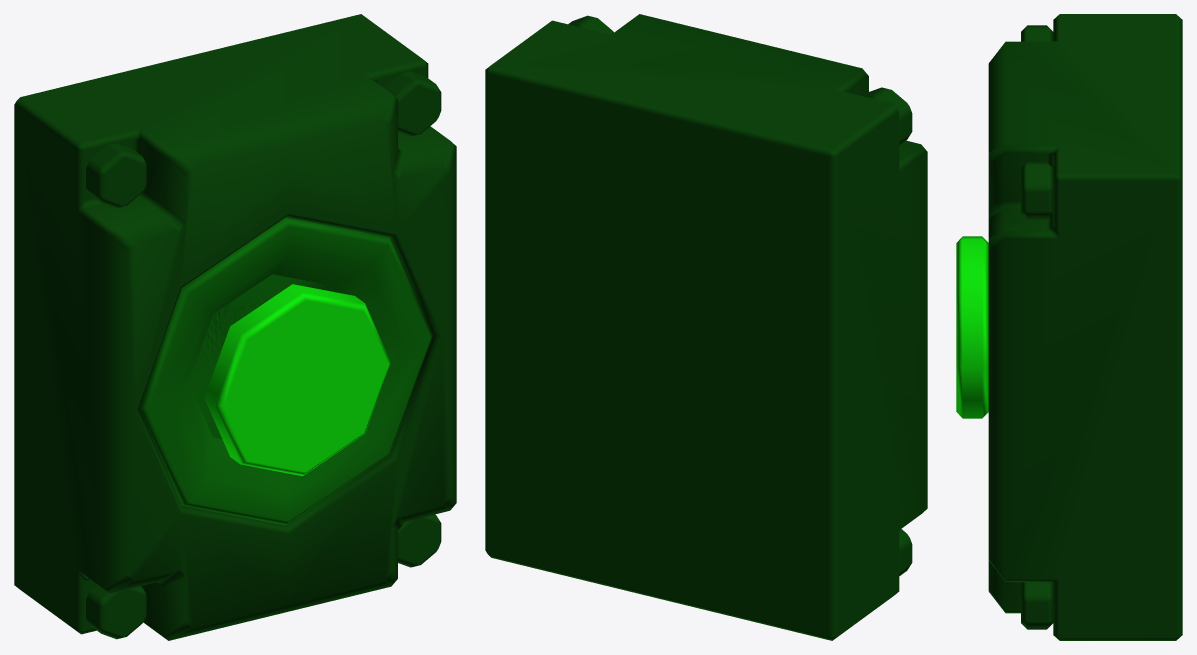
The picture shows the model from 3 angles, left to right: view 1: azimuth 30°, elevation 25°; view 2: azimuth 150°, elevation 25°; view 3: azimuth 270°, elevation 25°; orthographic projection. The views are drawn at different scales.
Visible parts, largest first — view 1: Plane.590, Plane.591; view 2: Plane.590; view 3: Plane.590, Plane.591.
Part boxes in pixels (box(x1,y1,x2,y2)): Plane.590: box(14, 14, 456, 640); Plane.591: box(204, 284, 390, 476); Plane.590: box(485, 14, 927, 640); Plane.590: box(988, 14, 1182, 640); Plane.591: box(956, 236, 988, 418).
Bounding box in the file's own units: 0.12 × 0.16 × 0.07.
